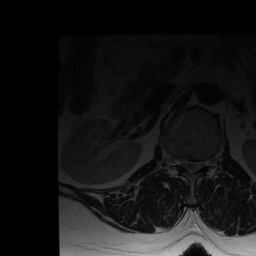CCS_severe_stenosis: (187, 152, 194, 178)
LFS_normal: (202, 152, 210, 173)
LLS_stenosis: (195, 154, 202, 175)
RFS_normal: (174, 150, 181, 173)
RLS_stenosis: (180, 152, 187, 175)
